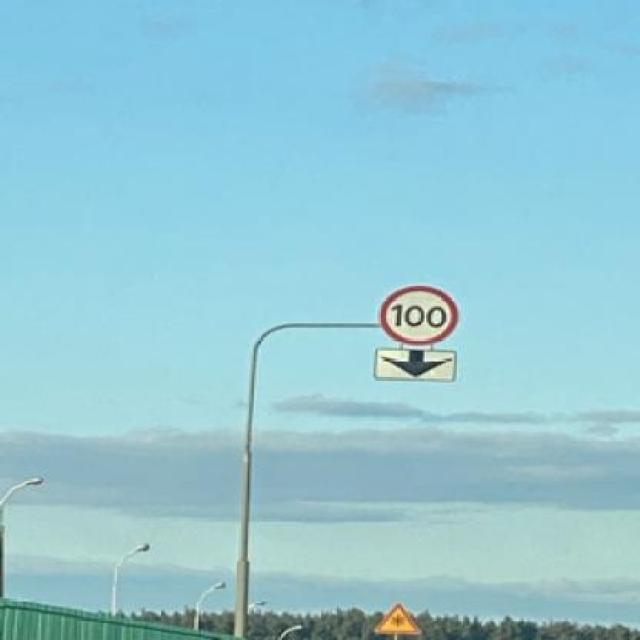forb_speed_over_100: (380, 286, 465, 349)
